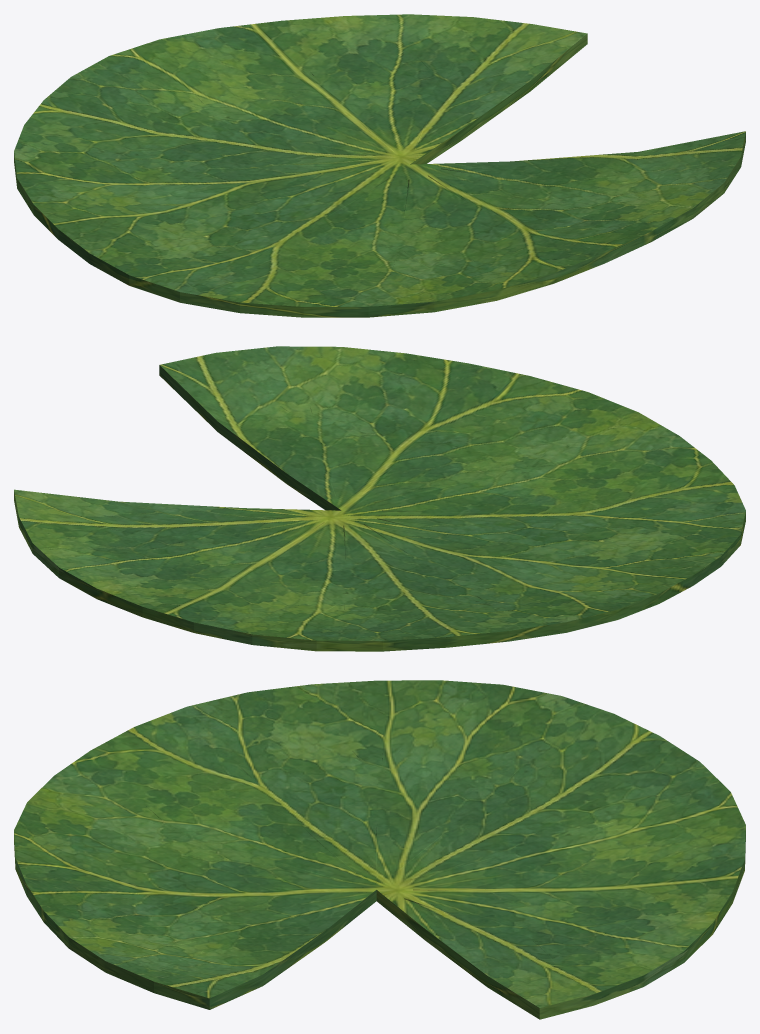
The model's file is SM_WaterLily_C.fbx.
3 renders of one model, top to bottom at view 1: azimuth 30°, elevation 25°; view 2: azimuth 150°, elevation 25°; view 3: azimuth 270°, elevation 25°, orthographic. The views are drawn at different scales.
Visible parts, largest first — view 1: SM_WaterLily_C; view 2: SM_WaterLily_C; view 3: SM_WaterLily_C.
Part boxes in pixels (x1,y1,x2,y2): SM_WaterLily_C: [14, 14, 745, 317]; SM_WaterLily_C: [14, 346, 745, 651]; SM_WaterLily_C: [14, 680, 745, 1019].
Size of the model in its own units: 0.27 by 0.258 by 0.0159.
1 material, 1 textured.
